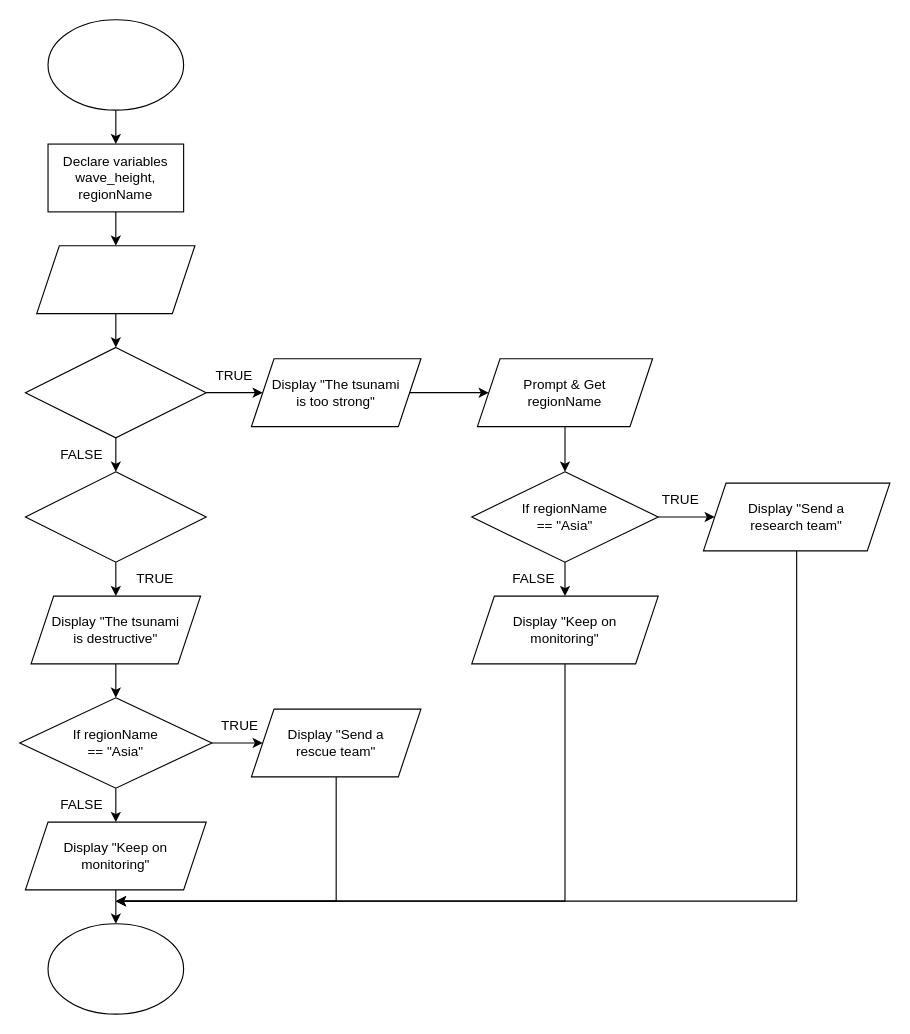
The diagram is 910 pixels wide and 1034 high, and some of its shapes have lost their labels. Each missing label, with the centre of its shape:
"END" belongs at (x=115, y=968).
"If 1 <= wave_height < 8" belongs at (x=115, y=392).
"If wave_height >= 8" belongs at (x=115, y=516).
"Prompt & Get wave_height" belongs at (x=115, y=279).
"START" belongs at (x=115, y=64).
